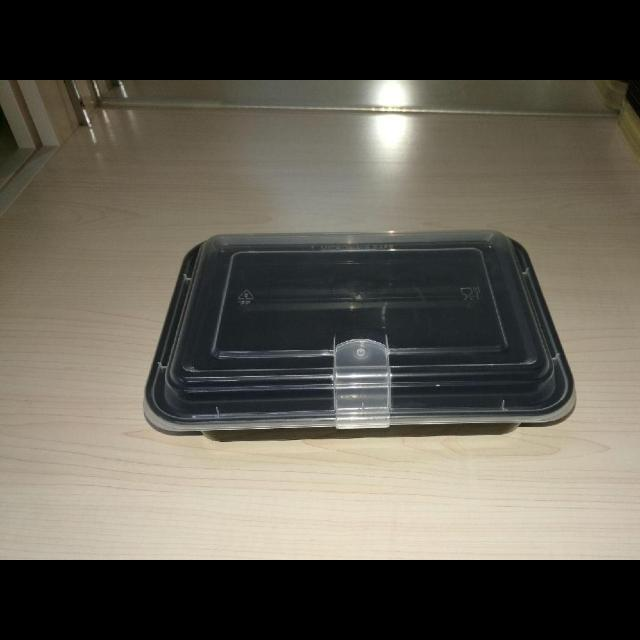plastic_box: (140, 228, 574, 440)
